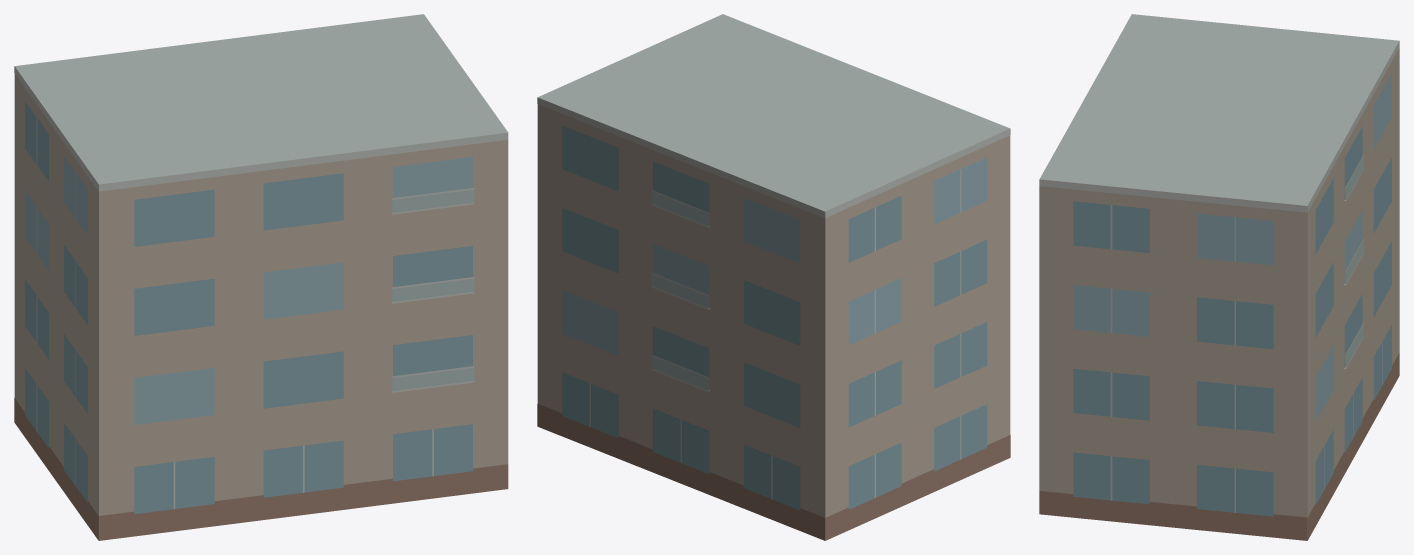
The model's file is residential-7d46a960-8360-4e8b-ba02-e134f6700ed2.glb.
The picture shows the model from 3 angles, left to right: view 1: azimuth 30°, elevation 25°; view 2: azimuth 150°, elevation 25°; view 3: azimuth 270°, elevation 25°; orthographic projection. The views are drawn at different scales.
Visible parts, largest first — view 1: residential-7d46a960-8360-4e8b-ba02-e134f6700ed2.tmp; view 2: residential-7d46a960-8360-4e8b-ba02-e134f6700ed2.tmp; view 3: residential-7d46a960-8360-4e8b-ba02-e134f6700ed2.tmp.
Boxes of the visible parts, box(x1,y1,x2,y2) form: residential-7d46a960-8360-4e8b-ba02-e134f6700ed2.tmp: box(14, 14, 508, 540); residential-7d46a960-8360-4e8b-ba02-e134f6700ed2.tmp: box(537, 14, 1010, 540); residential-7d46a960-8360-4e8b-ba02-e134f6700ed2.tmp: box(1039, 14, 1399, 540).
Size of the model in its own units: 15.01 by 12.2 by 11.9.
